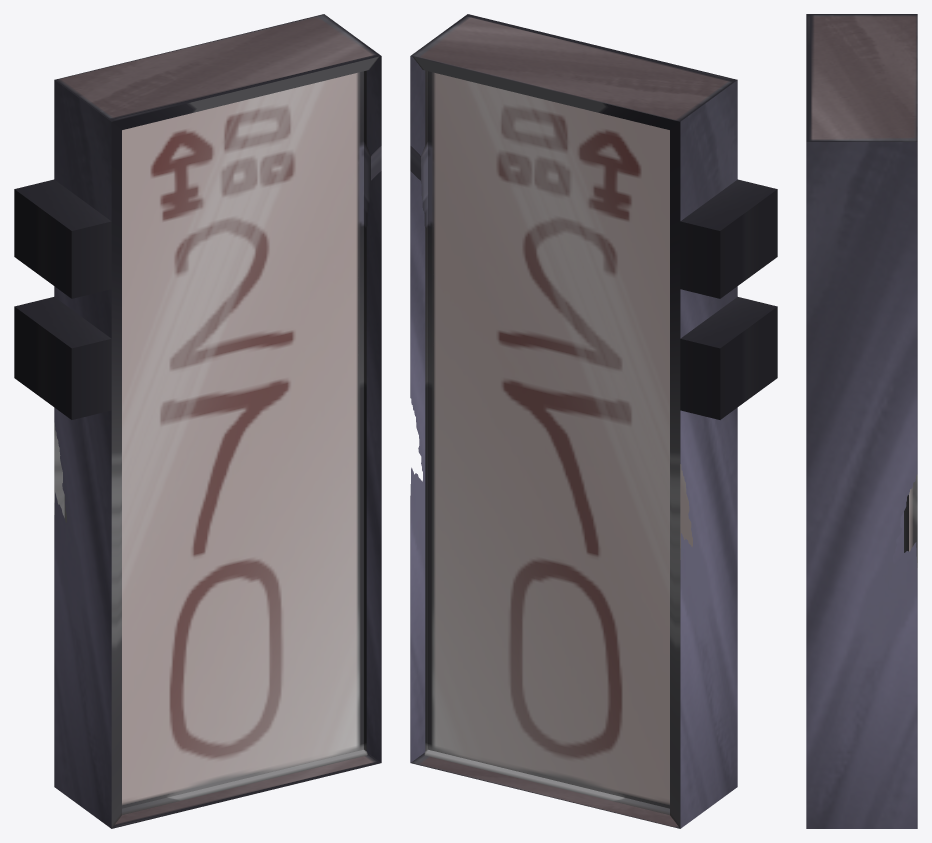
The model's file is SIgn.fbx.
3 renders of one model, left to right at view 1: azimuth 30°, elevation 25°; view 2: azimuth 150°, elevation 25°; view 3: azimuth 270°, elevation 25°, orthographic. The views are drawn at different scales.
Visible parts, largest first — view 1: SIgn; view 2: SIgn; view 3: SIgn.
Part boxes in pixels (box(x1,y1,x2,y2)): SIgn: box(14, 14, 381, 828); SIgn: box(410, 14, 777, 828); SIgn: box(806, 14, 917, 828).
Bounding box in the file's own units: 56.3 × 123 × 18.06.
1 material, 1 textured.
